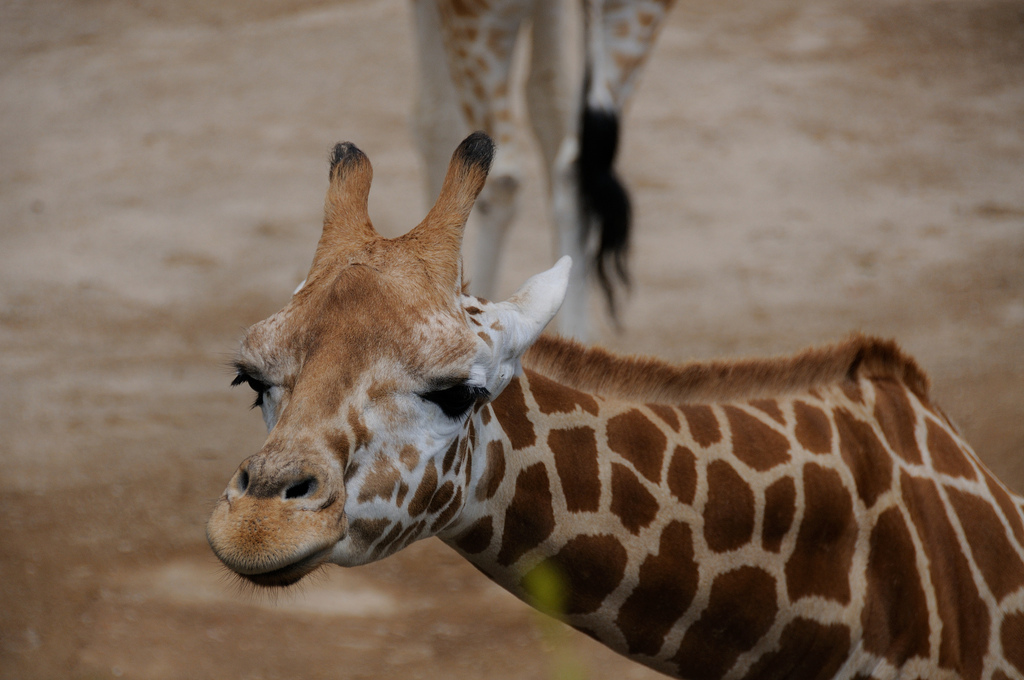giraffe: (158, 150, 1006, 646)
